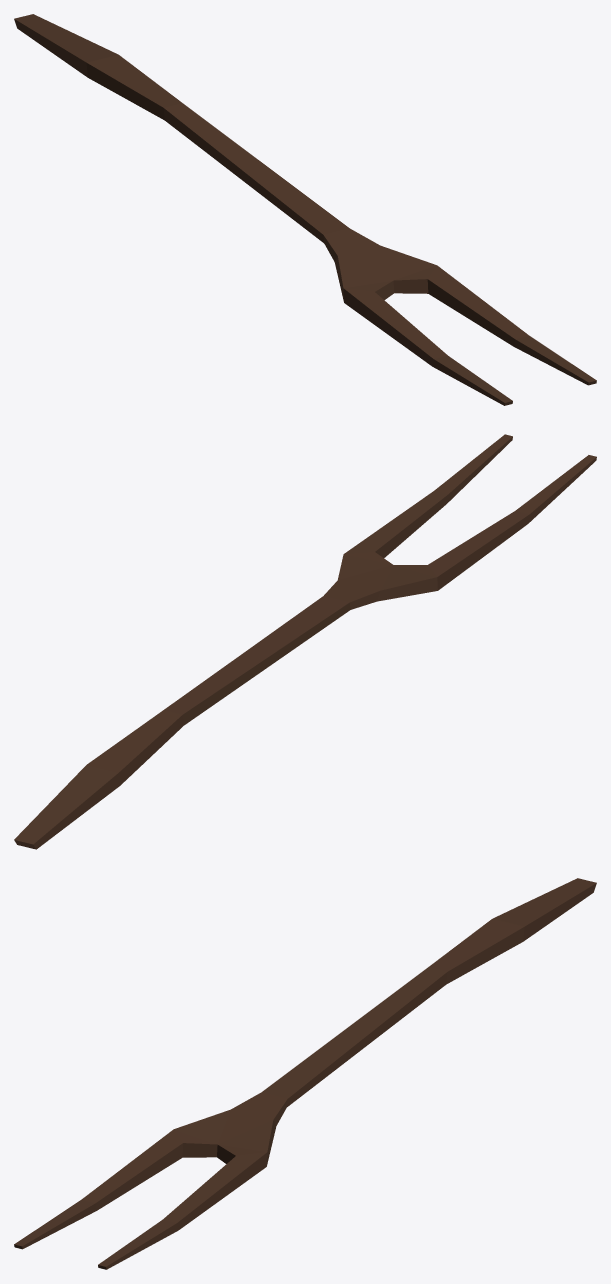
The model's file is 厨房用具_叉.FBX.
3 views of the same model, one above another, from view 1: azimuth 30°, elevation 25°; view 2: azimuth 150°, elevation 25°; view 3: azimuth 330°, elevation 25° (orthographic).
Visible parts, largest first — view 1: 厨房用具_叉; view 2: 厨房用具_叉; view 3: 厨房用具_叉.
Part boxes in pixels (x1,y1,x2,y2): 厨房用具_叉: (14,14,596,405); 厨房用具_叉: (14,434,596,849); 厨房用具_叉: (14,878,596,1269).
Bounding box in the file's own units: 1.85 × 17.64 × 0.5134.
